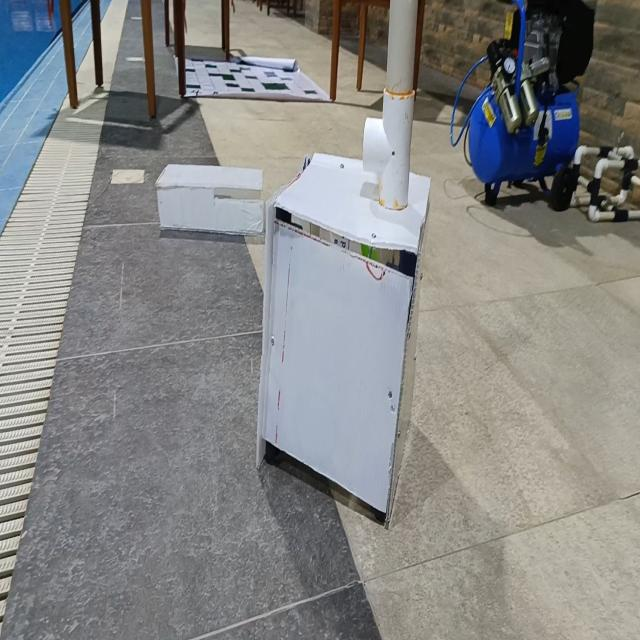Cube: (255, 151, 431, 525)
Cuboid: (155, 161, 264, 236)
